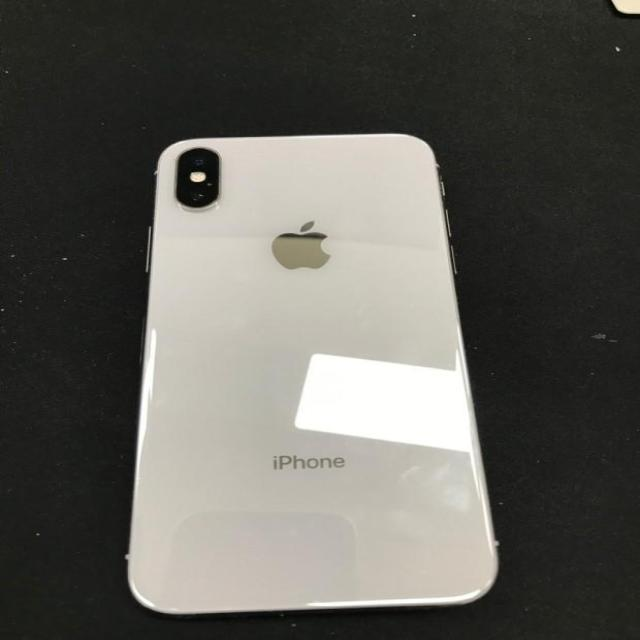cellphone: (122, 130, 504, 622)
